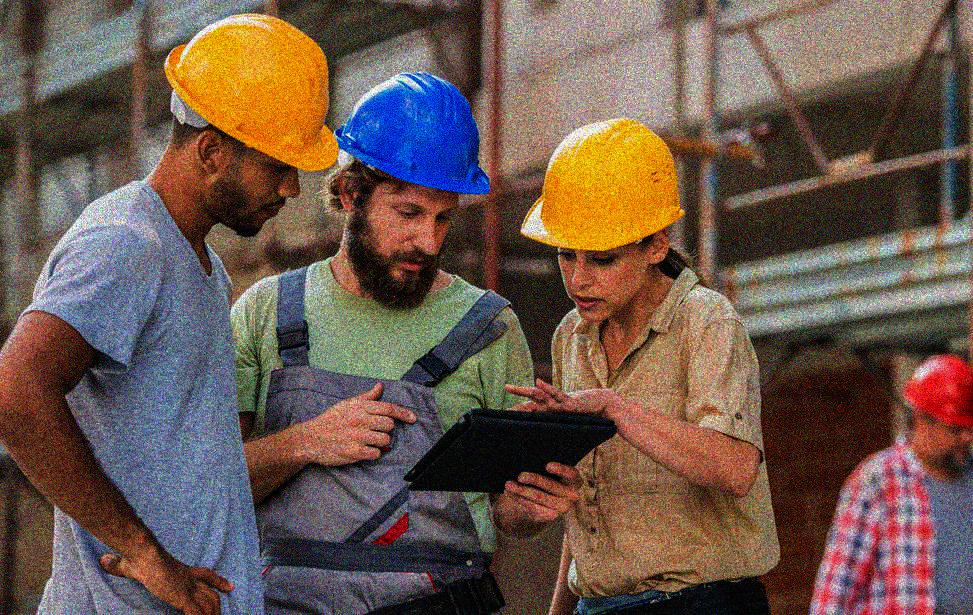helmet: (158, 14, 338, 240), (334, 72, 495, 289), (524, 117, 689, 326), (905, 353, 973, 467)
